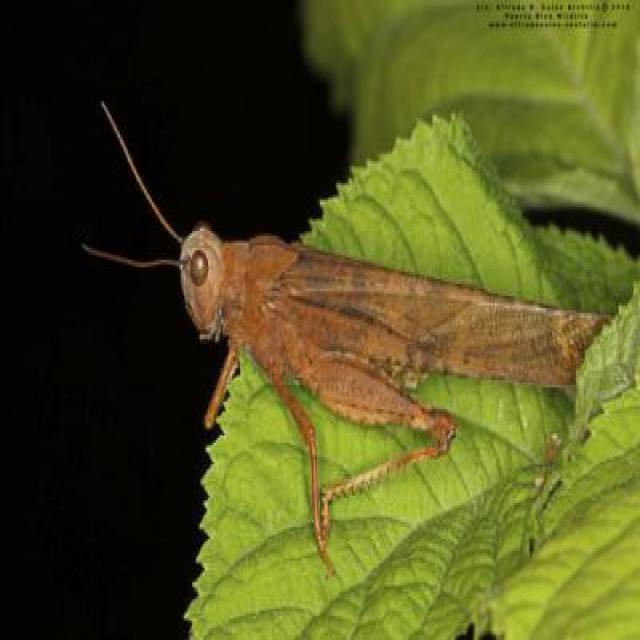antennae: (102, 105, 183, 243), (82, 243, 182, 270)
body: (182, 225, 435, 388)
insect: (81, 100, 618, 562)
legs: (306, 356, 462, 531), (270, 366, 332, 560), (200, 340, 249, 430)
mouthpart: (191, 305, 221, 346)
wings: (295, 246, 615, 392)
